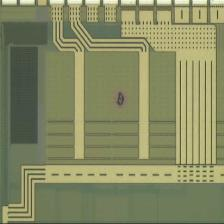PARTICLE: (112, 90, 132, 110)
